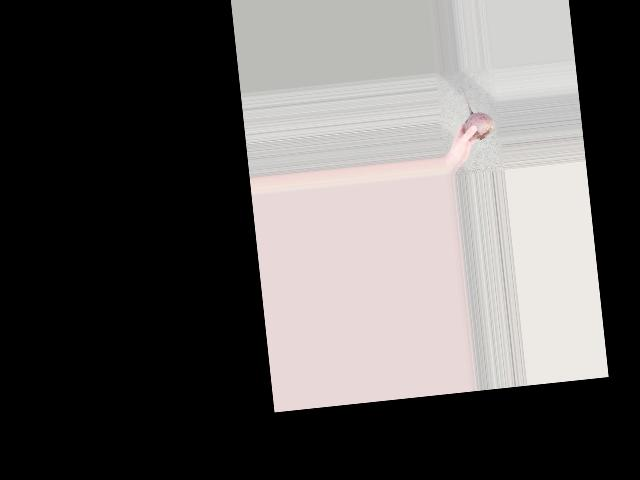beet: (460, 84, 495, 141)
